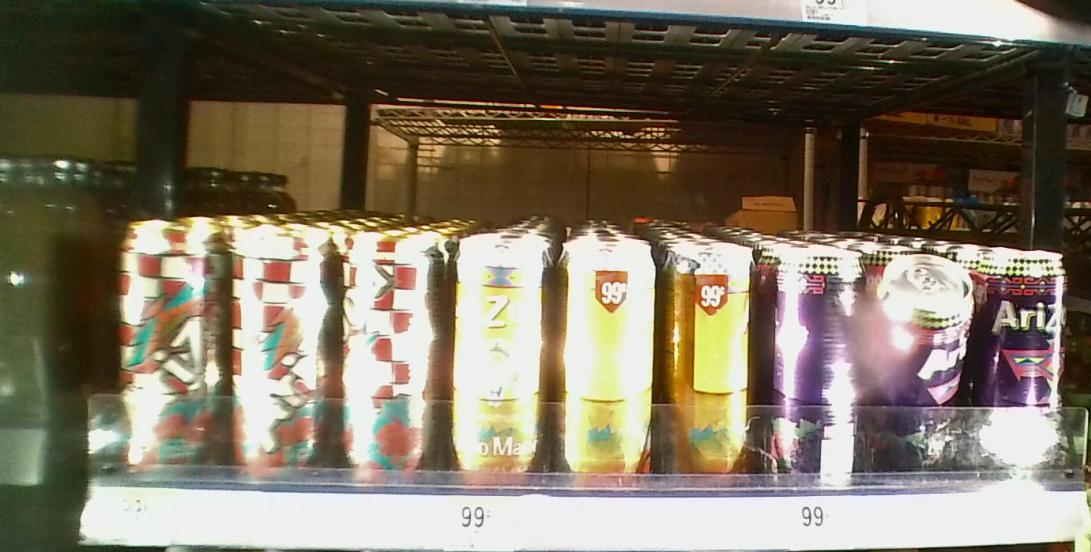bottle: (107, 202, 220, 471), (433, 225, 552, 472), (868, 246, 983, 475), (220, 223, 328, 466), (329, 227, 434, 470), (754, 258, 865, 478), (550, 236, 650, 472), (656, 237, 756, 470), (978, 247, 1068, 469)
